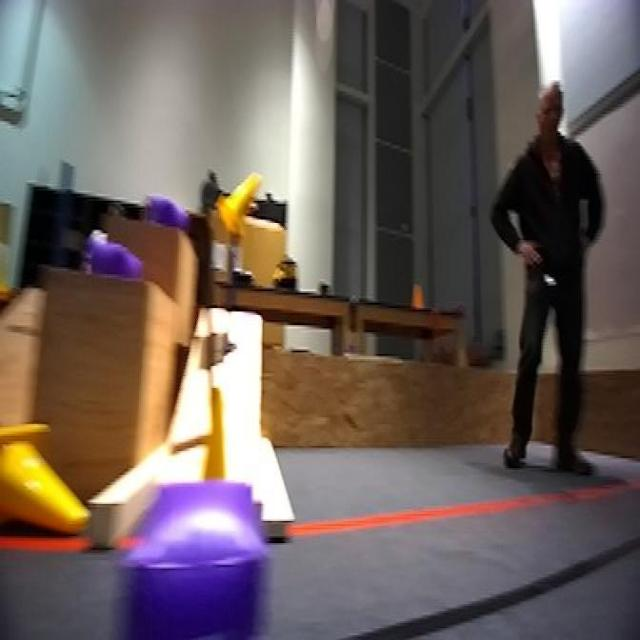frc_cone: (0, 419, 99, 553), (182, 384, 257, 534), (214, 165, 266, 240)
frc_cube: (103, 476, 281, 640), (86, 235, 146, 281), (143, 192, 178, 230)
